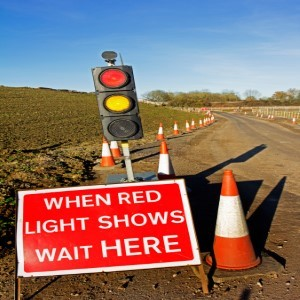traffic cone: (198, 170, 283, 282), (139, 141, 195, 210), (92, 134, 124, 173)
